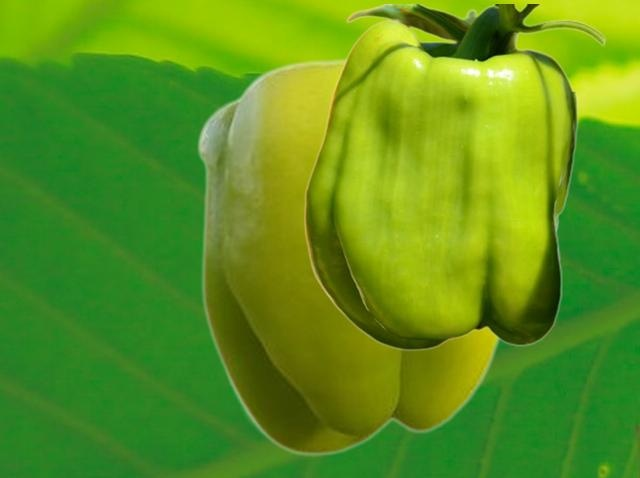bell_pepper: (196, 56, 501, 455), (303, 4, 605, 350)
